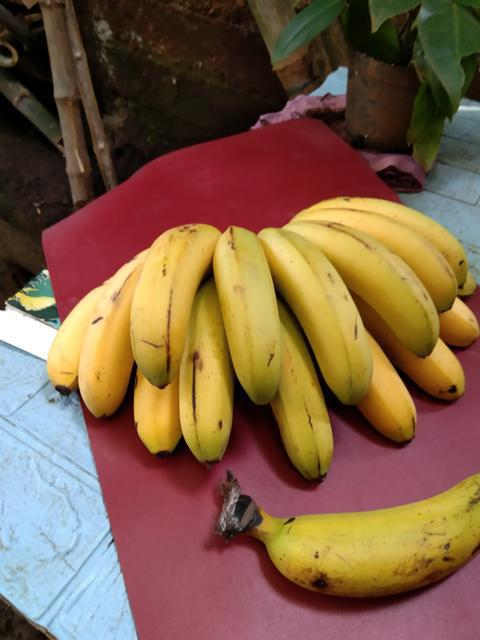ripe: (259, 465, 479, 611), (125, 203, 218, 381), (174, 326, 234, 474)
